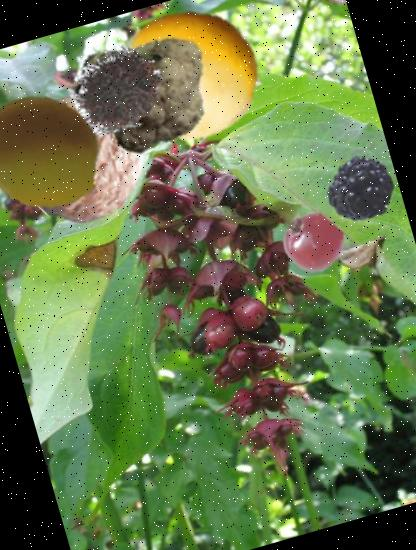Cauliflower: (58, 9, 226, 177)
Grapefruit: (107, 0, 280, 160)
Mulberry: (300, 133, 404, 236)
Peach: (0, 72, 118, 229)
Rambutan: (61, 31, 178, 147)
Redcurrant: (276, 205, 350, 279)
Walnut: (1, 80, 159, 238)
